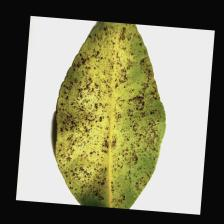canker: (70, 74, 153, 163)
